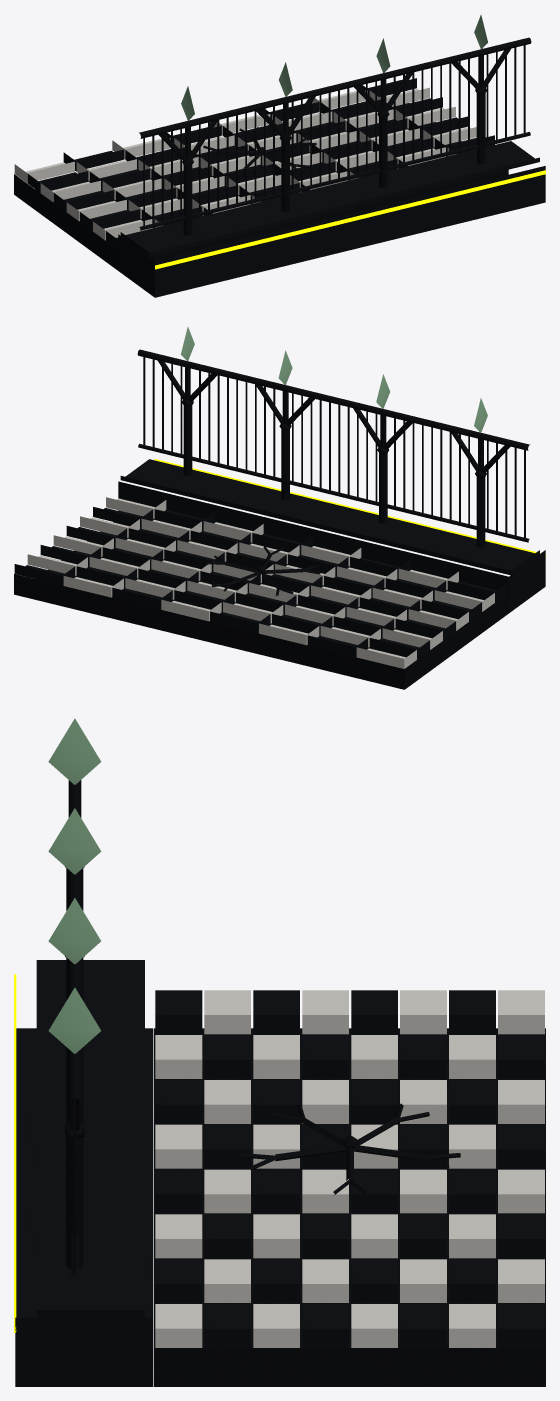
File: v4_edge.glb
The picture shows the model from 3 angles, top to bottom: view 1: azimuth 30°, elevation 25°; view 2: azimuth 150°, elevation 25°; view 3: azimuth 270°, elevation 25°; orthographic projection. The views are drawn at different scales.
Visible parts, largest first — view 1: Coping_Kerb, Guard_Frame, Pavers_A, Pavers_B, Deck_Slab, Coping_Line, Post_Leaf_Crests, Root_Relief; view 2: Pavers_B, Pavers_A, Coping_Kerb, Guard_Frame, Deck_Slab, Post_Leaf_Crests, Root_Relief, Coping_Line; view 3: Pavers_B, Pavers_A, Coping_Kerb, Deck_Slab, Post_Leaf_Crests, Guard_Frame, Root_Relief, Coping_Line.
Boxes of the visible parts, x1,y1,x2,y2 form: Coping_Kerb: [118, 141, 545, 297]; Guard_Frame: [139, 37, 531, 235]; Pavers_A: [14, 87, 476, 240]; Pavers_B: [27, 78, 494, 249]; Deck_Slab: [14, 103, 508, 270]; Coping_Line: [155, 170, 545, 269]; Post_Leaf_Crests: [181, 14, 487, 120]; Root_Relief: [202, 127, 316, 176]; Pavers_B: [14, 507, 507, 659]; Pavers_A: [27, 497, 494, 668]; Coping_Kerb: [118, 459, 545, 613]; Guard_Frame: [137, 349, 530, 547]; Deck_Slab: [14, 522, 508, 689]; Post_Leaf_Crests: [181, 326, 487, 432]; Root_Relief: [206, 546, 320, 595]; Coping_Line: [154, 459, 545, 557]; Pavers_B: [155, 990, 544, 1347]; Pavers_A: [155, 990, 544, 1347]; Coping_Kerb: [15, 960, 153, 1386]; Deck_Slab: [154, 1028, 545, 1386]; Post_Leaf_Crests: [48, 718, 101, 1053]; Guard_Frame: [65, 780, 84, 1276]; Root_Relief: [239, 1103, 460, 1194]; Coping_Line: [14, 974, 16, 1332].
Size of what is drawn, in the model's own units: 4 by 1.85 by 2.51.
5 materials, 2 textured.
